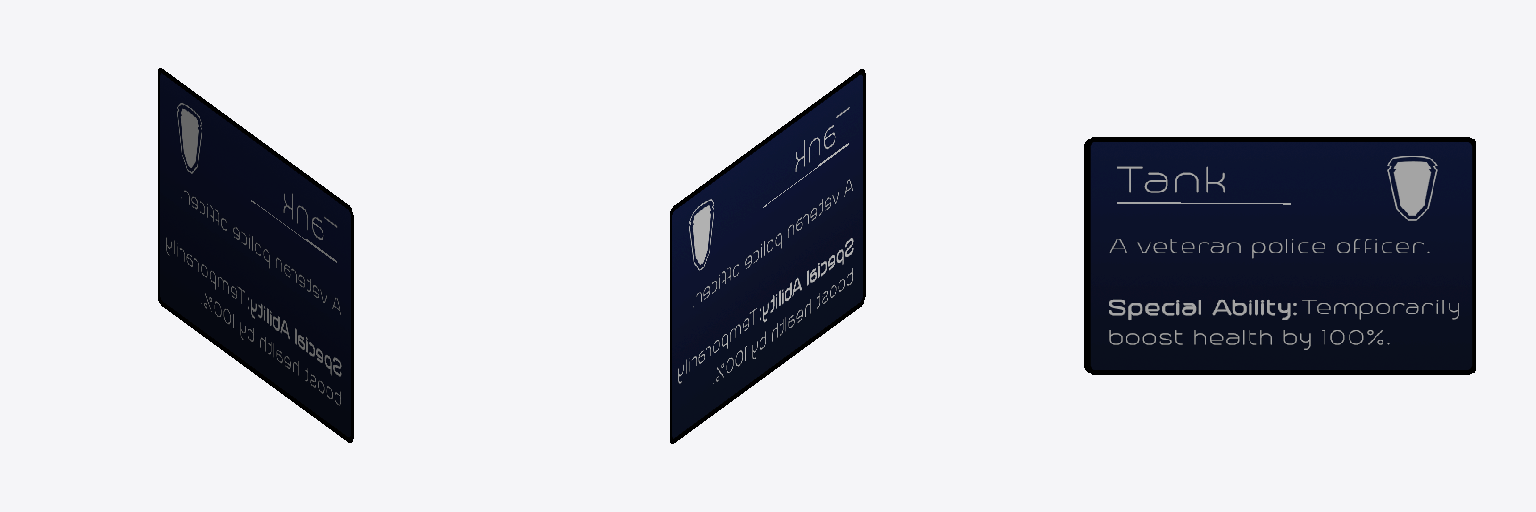
3 renders of one model, left to right at view 1: azimuth 30°, elevation 25°; view 2: azimuth 150°, elevation 25°; view 3: azimuth 270°, elevation 25°, orthographic.
Visible parts, largest first — view 1: Plane; view 2: Plane; view 3: Plane.
Part boxes in pixels (bbox=[...]): Plane: bbox=[158, 68, 353, 442]; Plane: bbox=[670, 69, 865, 443]; Plane: bbox=[1084, 137, 1475, 374].
Size of the model in its own units: 0 by 2 by 2.98.
Materials: 1 (1 with a texture image).